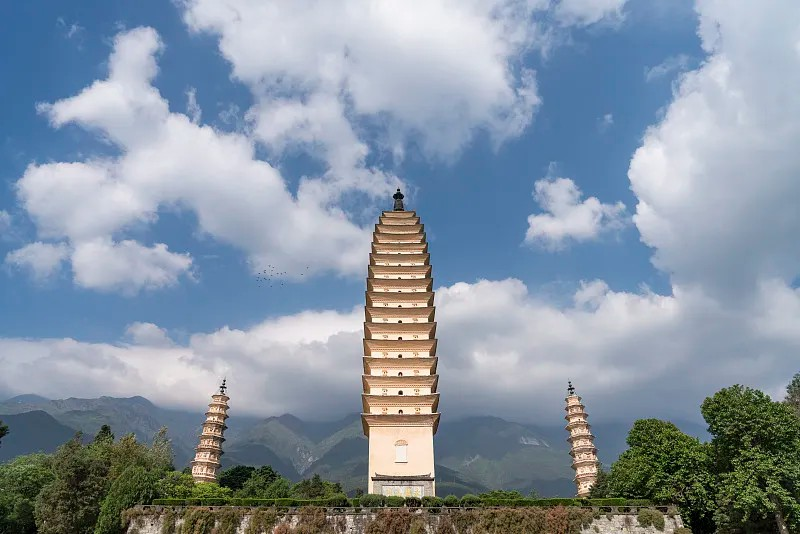ThreePagoda: (361, 189, 441, 496)
